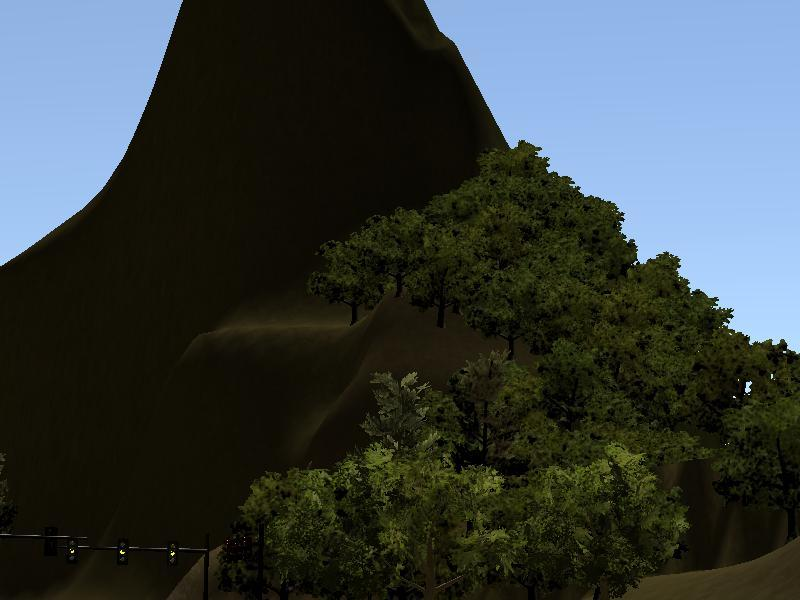Yellow: (117, 538, 129, 568), (167, 540, 179, 568), (67, 537, 77, 565)
